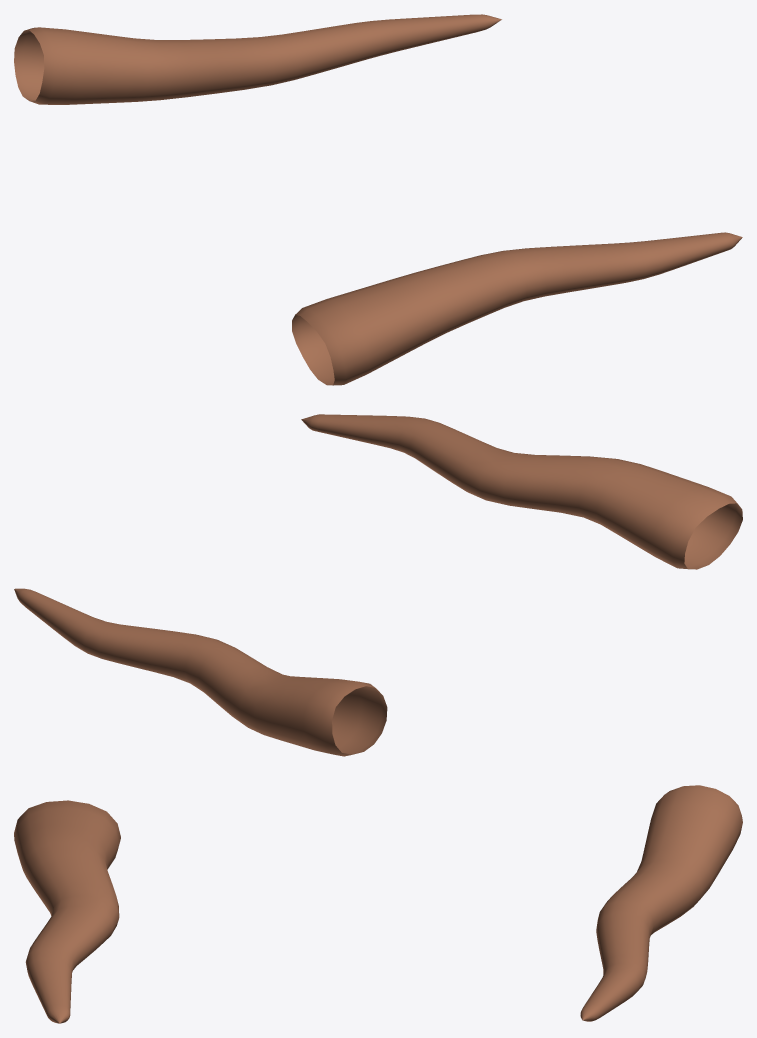
Rendered from Normal Wurzels.fbx.
3 renders of one model, top to bottom at view 1: azimuth 30°, elevation 25°; view 2: azimuth 150°, elevation 25°; view 3: azimuth 270°, elevation 25°, orthographic. The views are drawn at different scales.
Parts seen in each view (by area): view 1: wurzel normal 1, wurzel normal 2; view 2: wurzel normal 1, wurzel normal 2; view 3: wurzel normal 2, wurzel normal 1.
Boxes of the visible parts, <box> form: wurzel normal 1: <box>292,232,742,385</box>; wurzel normal 2: <box>14,14,501,104</box>; wurzel normal 1: <box>301,414,742,569</box>; wurzel normal 2: <box>14,588,387,756</box>; wurzel normal 2: <box>580,785,742,1021</box>; wurzel normal 1: <box>14,800,120,1023</box>.
Size of the model in its own units: 105 by 22.11 by 147.
